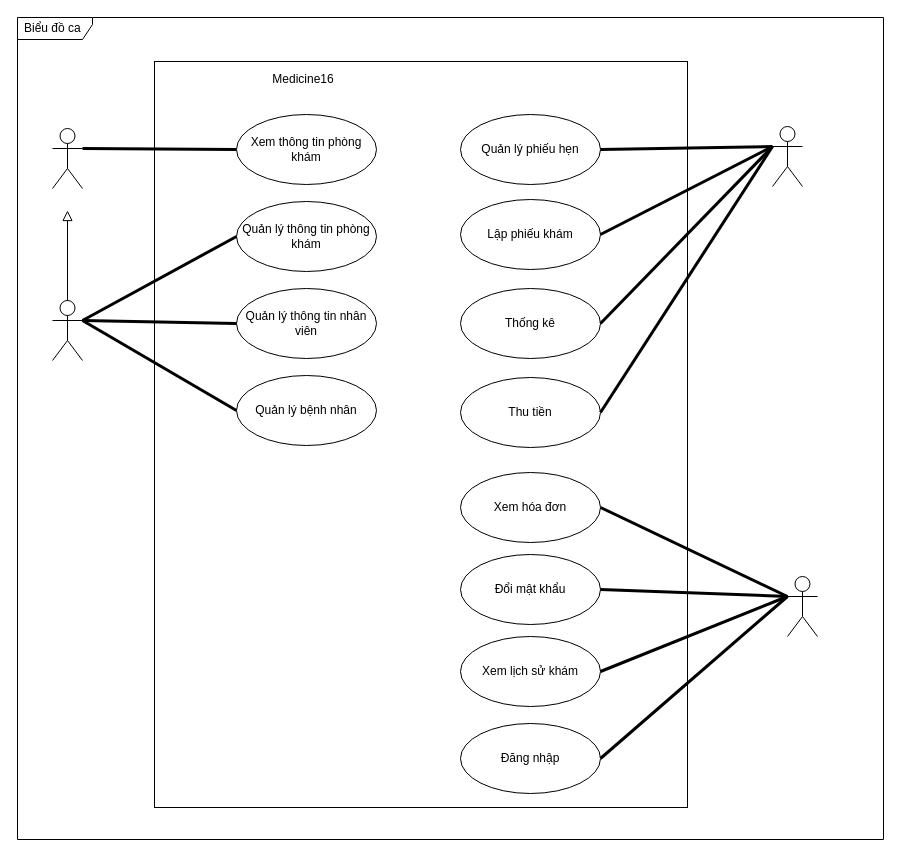
This 901x857 diagram has some shape labels left out. Each missing label, with the centre of its shape:
Bệnh nhân: [802,606]
Khách: [67,158]
Quản trị viên: [67,330]
Y tá: [787,156]
